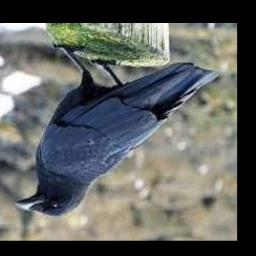Crow: (17, 43, 219, 218)
